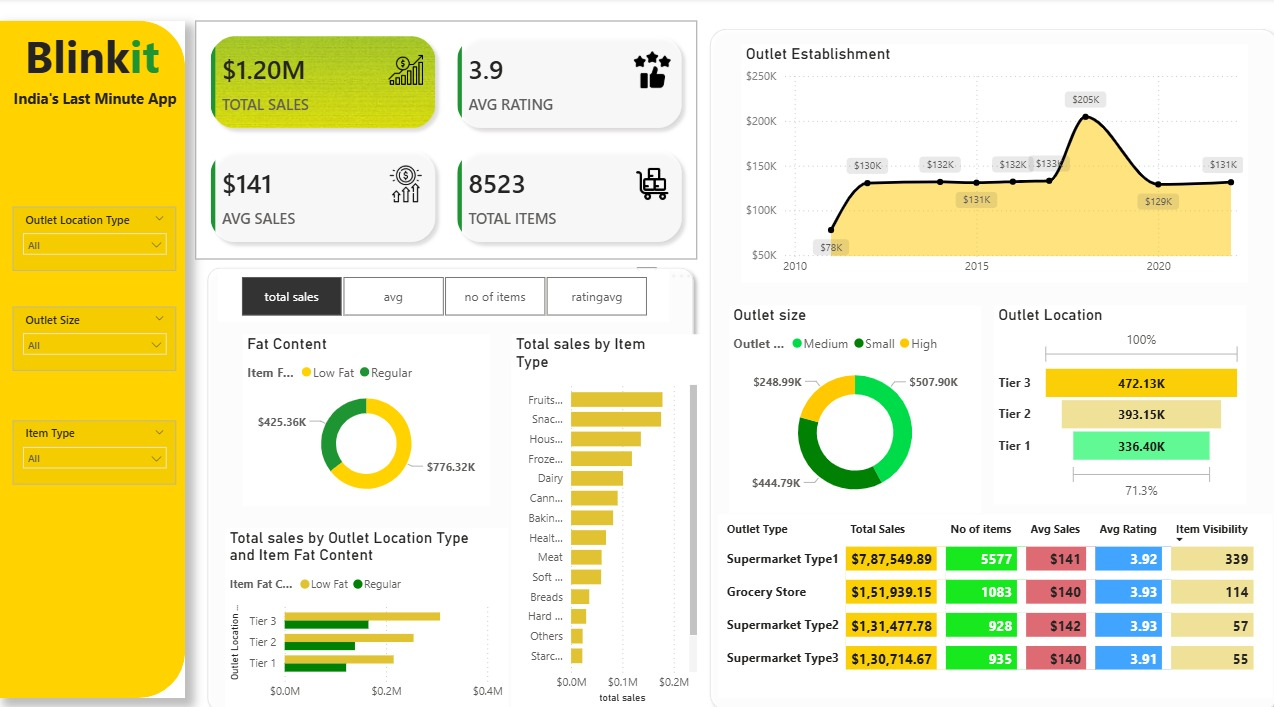

What the dashboard file says about the page in this screenshot:
{"tool":"powerbi","page":{"name":"Page 1","canvas":[1400,800],"ordinal":0},"visuals":[{"type":"shape","box":[0,24.5,202.4,736.4],"z":0},{"type":"textbox","box":[23.6,25.1,190.1,89.9],"z":1000},{"type":"textbox","box":[10.9,92.4,187.5,62.5],"z":2000},{"type":"cardVisual","fields":{"Data":["BlinkIT Grocery Data.total sales","BlinkIT Grocery Data.ratingavg","BlinkIT Grocery Data.avg","BlinkIT Grocery Data.no of items"]},"box":[213.3,24.5,546.2,259.5],"z":3000},{"type":"shape","box":[217.4,284,546.2,500],"z":4000},{"type":"slicer","fields":{"Values":["Metric.Metric"]},"box":[237.8,296.2,490.5,55.7],"z":5000},{"type":"donutChart","title":"Fat Content","fields":{"Y":["BlinkIT Grocery Data.Total Sales"],"Category":["BlinkIT Grocery Data.Item Fat Content"]},"box":[264.9,365.5,269,187.5],"z":6000},{"type":"barChart","title":"Total sales by Item Type","fields":{"Y":["BlinkIT Grocery Data.Total Sales"],"Category":["BlinkIT Grocery Data.Item Type"]},"box":[557.1,365.5,206.5,406.3],"z":7000},{"type":"clusteredBarChart","title":"Total sales by Outlet Location Type and Item Fat Content","fields":{"Y":["BlinkIT Grocery Data.Total Sales"],"Category":["BlinkIT Grocery Data.Outlet Location Type"],"Series":["BlinkIT Grocery Data.Item Fat Content"]},"box":[245.9,576.1,307.1,195.7],"z":8000},{"type":"shape","box":[763.6,24.5,635.9,759.5],"z":9000},{"type":"lineChart","title":"Outlet Establishment","fields":{"Y":["BlinkIT Grocery Data.total sales"],"Category":["BlinkIT Grocery Data.Outlet Establishment Year"]},"box":[807.1,50.3,550.3,259.5],"z":10000},{"type":"donutChart","title":"Outlet size","fields":{"Y":["BlinkIT Grocery Data.Total Sales"],"Category":["BlinkIT Grocery Data.Outlet Size"]},"box":[793.5,334.2,274.5,225.5],"z":11000},{"type":"funnel","title":"Outlet Location","fields":{"Y":["Sum(BlinkIT Grocery Data.Sales)"],"Category":["BlinkIT Grocery Data.Outlet Location Type"]},"box":[1081.5,334.2,274.5,216],"z":12000},{"type":"pivotTable","title":"Outlet Type","fields":{"Values":["BlinkIT Grocery Data.total sales","BlinkIT Grocery Data.no of items","BlinkIT Grocery Data.avg","BlinkIT Grocery Data.ratingavg","Sum(BlinkIT Grocery Data.Item Visibility)"],"Rows":["BlinkIT Grocery Data.Outlet Type"]},"box":[781.3,561.1,603.3,199.7],"z":13000},{"type":"slicer","fields":{"Values":["BlinkIT Grocery Data.Outlet Location Type"]},"box":[14.9,226.9,178,69.3],"z":13001},{"type":"slicer","fields":{"Values":["BlinkIT Grocery Data.Outlet Size"]},"box":[14.9,335.6,178,69.3],"z":13002},{"type":"slicer","fields":{"Values":["BlinkIT Grocery Data.Item Type"]},"box":[14.9,459.2,178,69.3],"z":13003}]}

Visuals, with their boxes in screenshot pixels (x1, y1, x2, y2), scaled from the page's 1400x800 canvas onto the 1274x707 screenshot:
shape: <bbox>0, 22, 184, 672</bbox>
textbox: <bbox>21, 22, 194, 102</bbox>
textbox: <bbox>10, 82, 181, 137</bbox>
cardVisual - BlinkIT Grocery Data.total sales x BlinkIT Grocery Data.ratingavg: <bbox>194, 22, 691, 251</bbox>
shape: <bbox>198, 251, 695, 693</bbox>
slicer - Metric.Metric: <bbox>216, 262, 663, 311</bbox>
"Fat Content" donutChart: <bbox>241, 323, 486, 489</bbox>
"Total sales by Item Type" barChart: <bbox>507, 323, 695, 682</bbox>
"Total sales by Outlet Location Type and Item Fat Content" clusteredBarChart: <bbox>224, 509, 503, 682</bbox>
shape: <bbox>695, 22, 1273, 693</bbox>
"Outlet Establishment" lineChart: <bbox>734, 44, 1235, 274</bbox>
"Outlet size" donutChart: <bbox>722, 295, 972, 495</bbox>
"Outlet Location" funnel: <bbox>984, 295, 1234, 486</bbox>
"Outlet Type" pivotTable: <bbox>711, 496, 1260, 672</bbox>
slicer - BlinkIT Grocery Data.Outlet Location Type: <bbox>14, 201, 176, 262</bbox>
slicer - BlinkIT Grocery Data.Outlet Size: <bbox>14, 297, 176, 358</bbox>
slicer - BlinkIT Grocery Data.Item Type: <bbox>14, 406, 176, 467</bbox>
